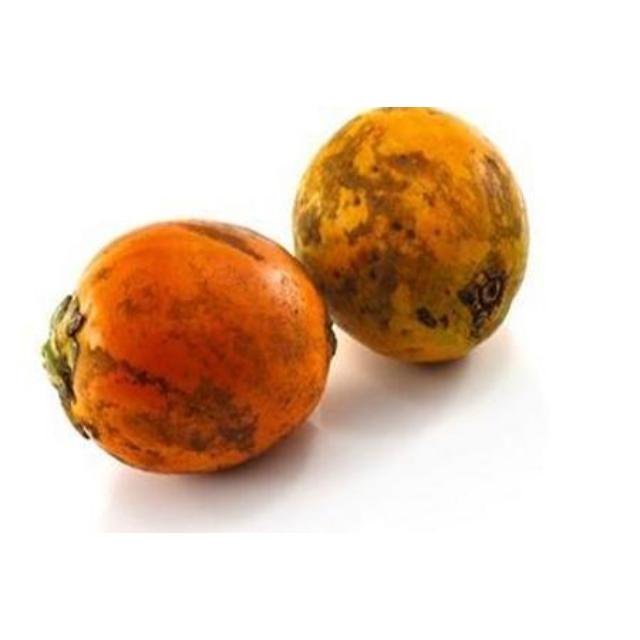good: (43, 221, 336, 477), (292, 107, 530, 367)
